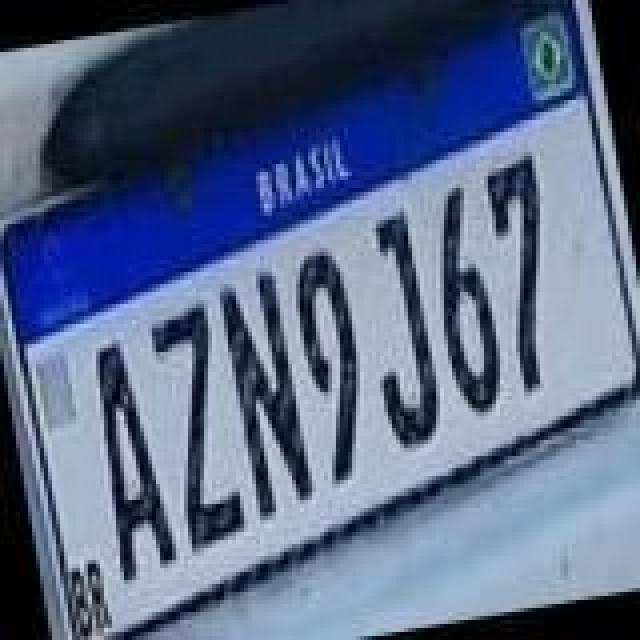6: (416, 180, 512, 420)
7: (480, 148, 576, 396)
9: (288, 246, 384, 490)
A: (78, 334, 178, 586)
J: (350, 204, 450, 452)
N: (214, 264, 322, 520)
Z: (146, 304, 254, 560)
